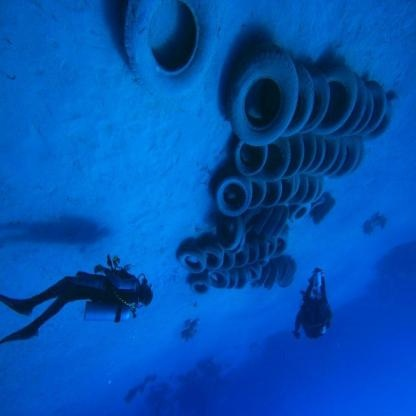tire: (222, 40, 394, 138), (118, 2, 216, 97), (227, 136, 369, 181), (203, 168, 325, 209), (174, 259, 298, 292), (172, 236, 289, 266), (218, 207, 295, 241), (295, 200, 337, 225)
